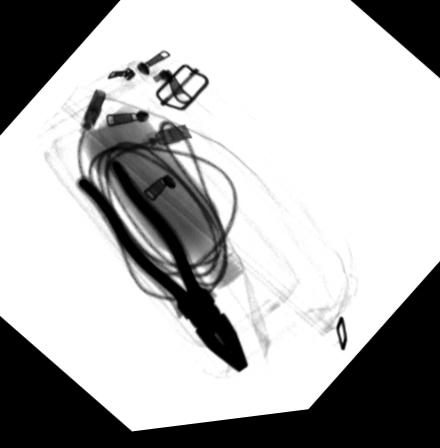Pliers: (74, 159, 248, 378)
